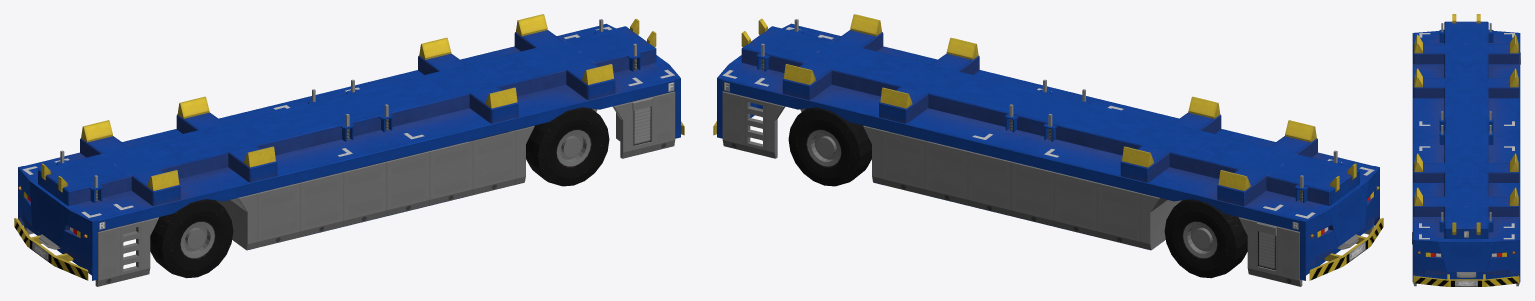
Rendered from agv.glb.
3 views of the same model, side by side, from view 1: azimuth 30°, elevation 25°; view 2: azimuth 150°, elevation 25°; view 3: azimuth 270°, elevation 25° (orthographic). The views are drawn at different scales.
Visible parts, largest first — view 1: AGV, Tyre03, Tyre01, RollingDoor02; view 2: AGV, Tyre04, Tyre02, RollingDoor01; view 3: AGV.
Boxes of the visible parts, left/top/right/bottom form: AGV: left=14, top=14, right=684, bottom=286; Tyre03: left=526, top=107, right=609, bottom=186; Tyre01: left=150, top=199, right=233, bottom=278; RollingDoor02: left=633, top=106, right=651, bottom=145; AGV: left=713, top=14, right=1383, bottom=286; Tyre04: left=788, top=107, right=871, bottom=186; Tyre02: left=1164, top=199, right=1247, bottom=278; RollingDoor01: left=1258, top=231, right=1275, bottom=270; AGV: left=1412, top=14, right=1520, bottom=286.
Bounding box in the file's own units: 14.69 × 2.54 × 3.11.
Materials: 1 (1 with a texture image).
